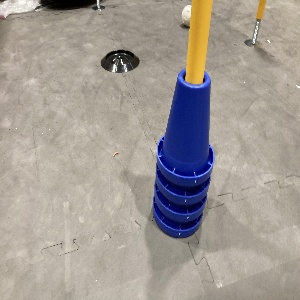Blue_4: (151, 71, 215, 237)
